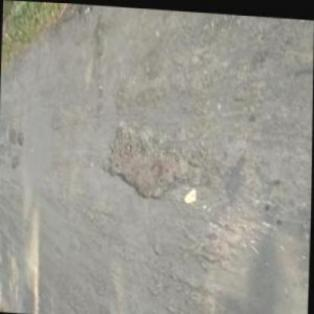Hueco: (102, 118, 198, 201), (10, 152, 22, 168), (8, 127, 17, 143), (18, 130, 24, 146)
